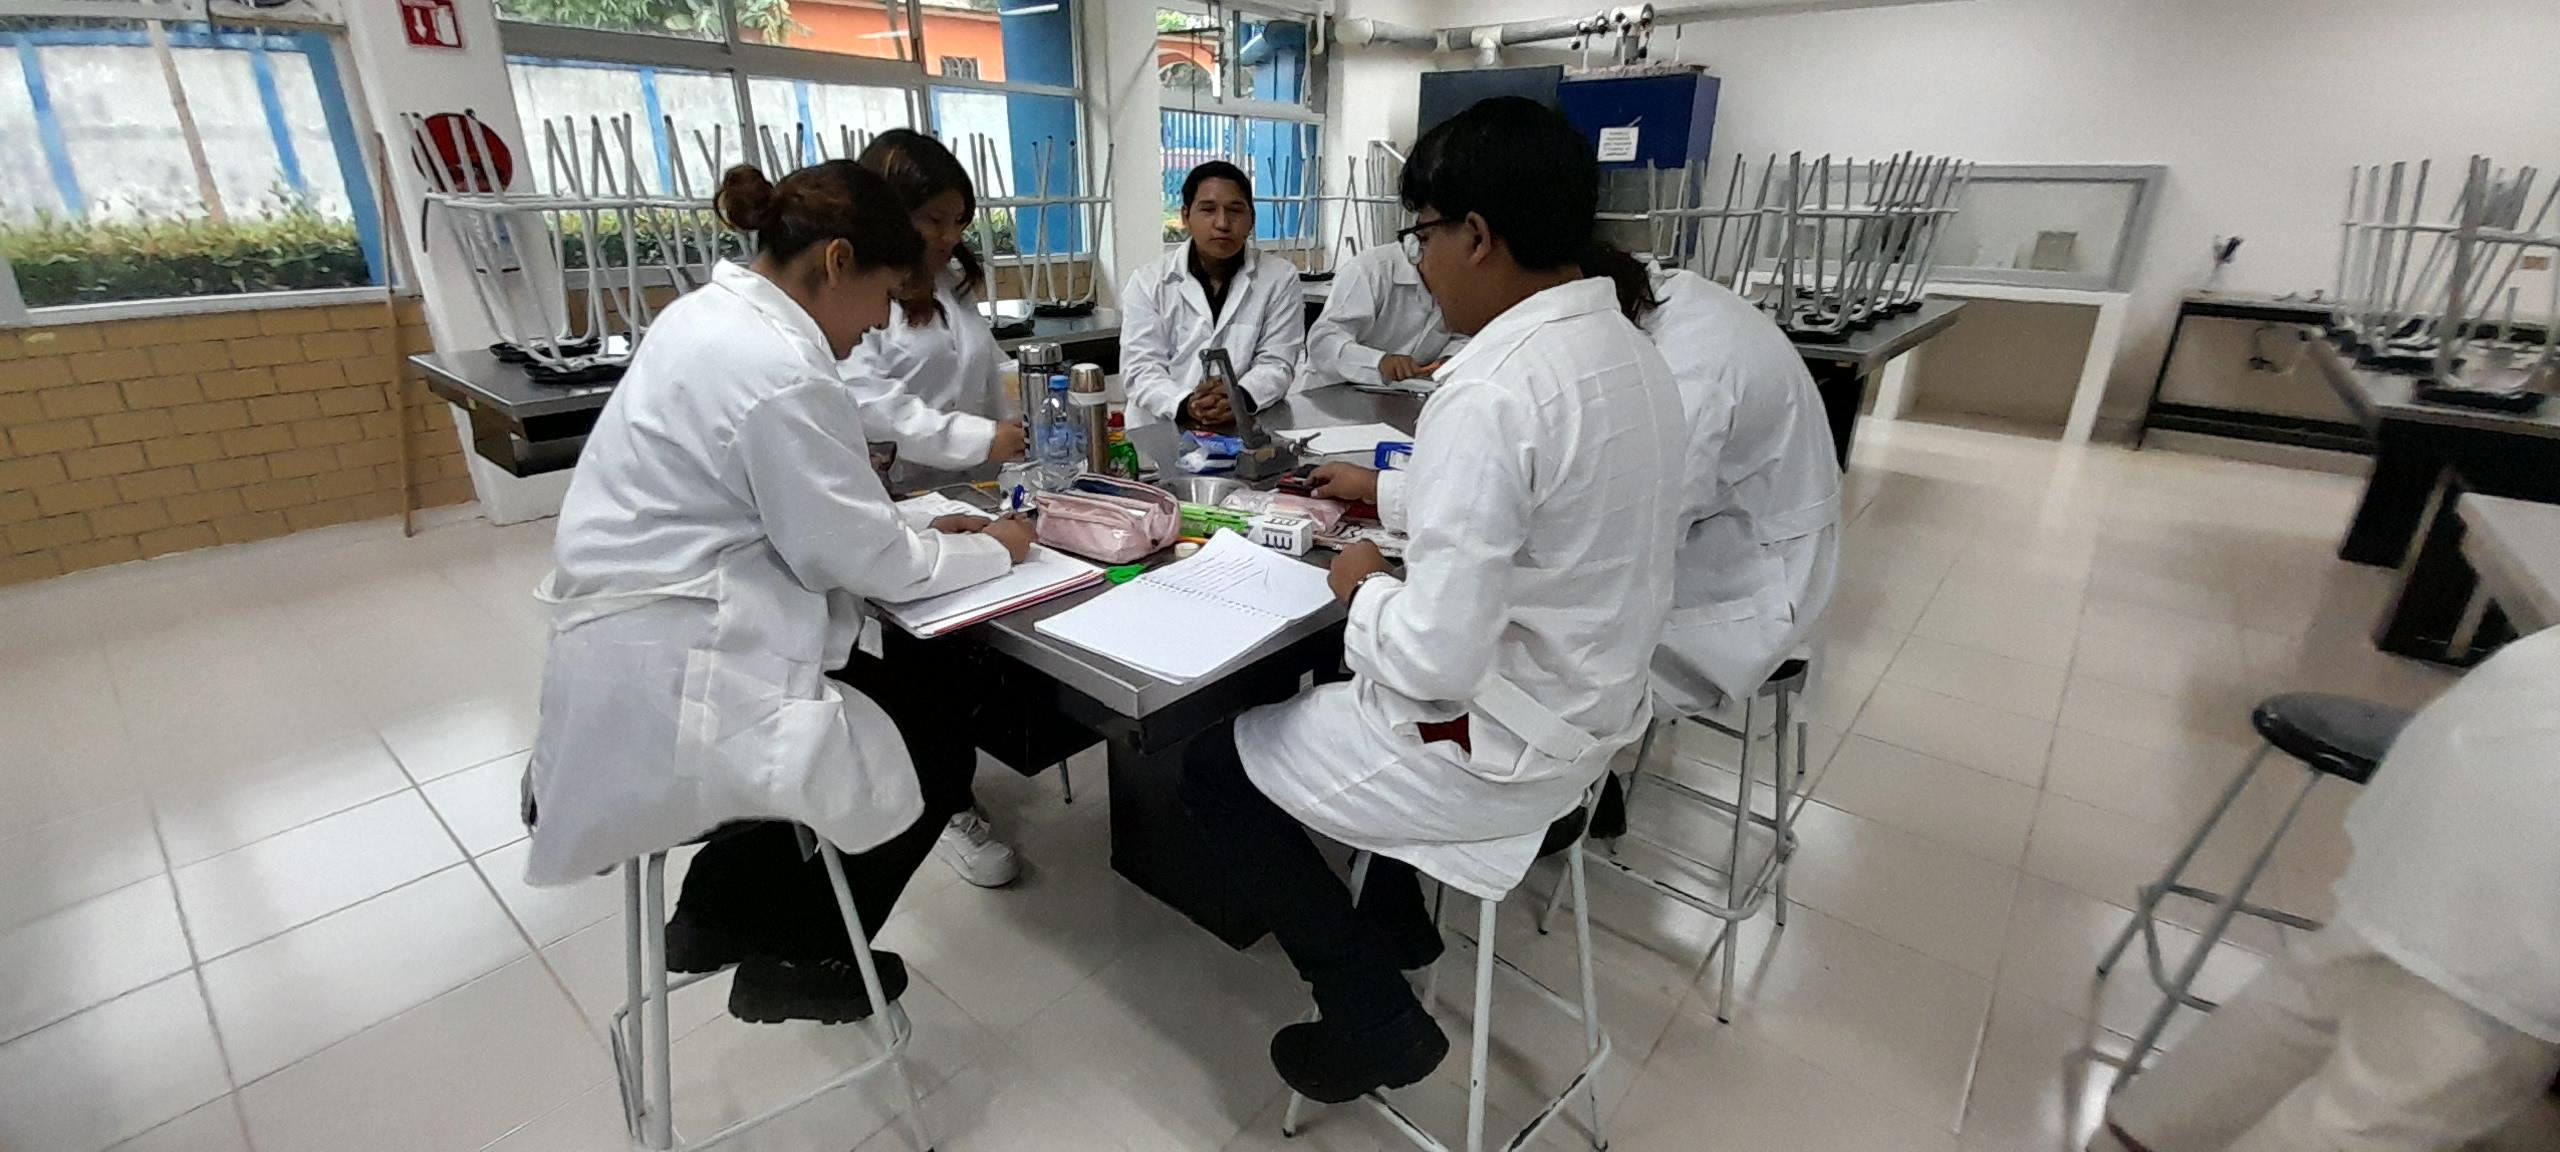Bata-Correcta: (1184, 96, 1685, 1103), (527, 160, 1035, 1023)
